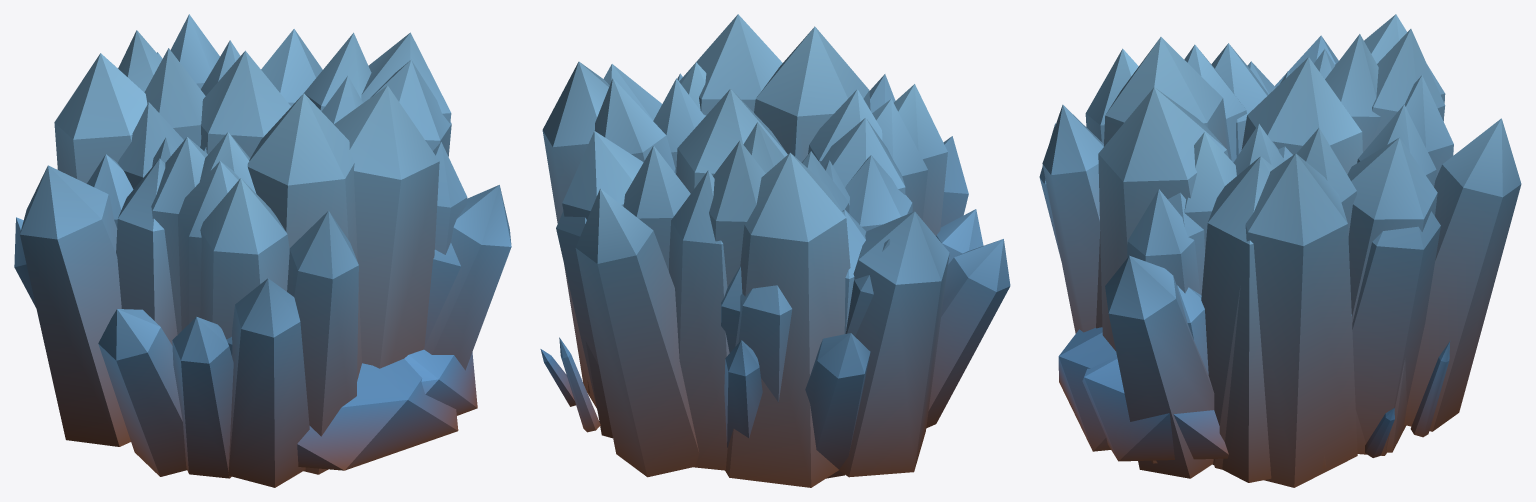
The model's file is crystal_blue.glb.
3 renders of one model, left to right at view 1: azimuth 30°, elevation 25°; view 2: azimuth 150°, elevation 25°; view 3: azimuth 270°, elevation 25°, orthographic. The views are drawn at different scales.
Visible parts, largest first — view 1: crystal_blue; view 2: crystal_blue; view 3: crystal_blue.
Boxes of the visible parts, x1,y1,x2,y2 form: crystal_blue: (14,14,511,487); crystal_blue: (540,14,1010,487); crystal_blue: (1039,14,1521,487).
Size of the model in its own units: 1.3 by 1.09 by 1.28.
